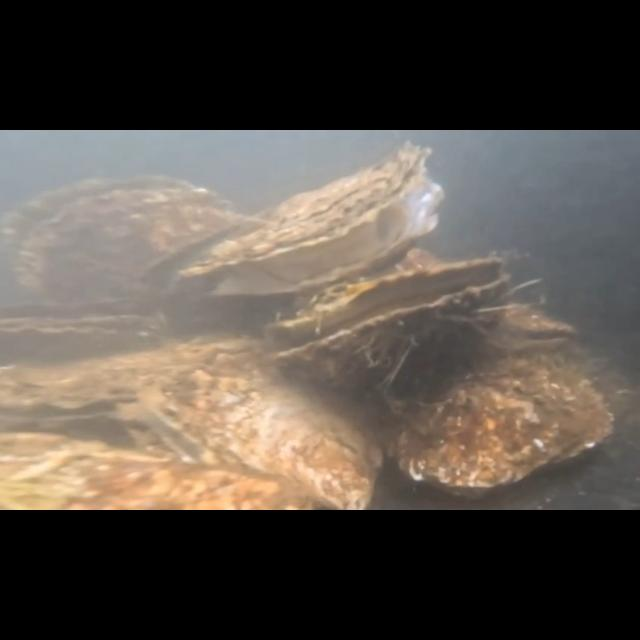Oyster-Closed: (395, 349, 619, 495), (0, 429, 322, 510)
Oyster-Open: (170, 138, 446, 306), (146, 363, 384, 511), (0, 170, 252, 302), (269, 252, 516, 384), (0, 335, 232, 435), (0, 309, 174, 361), (466, 299, 580, 359)
